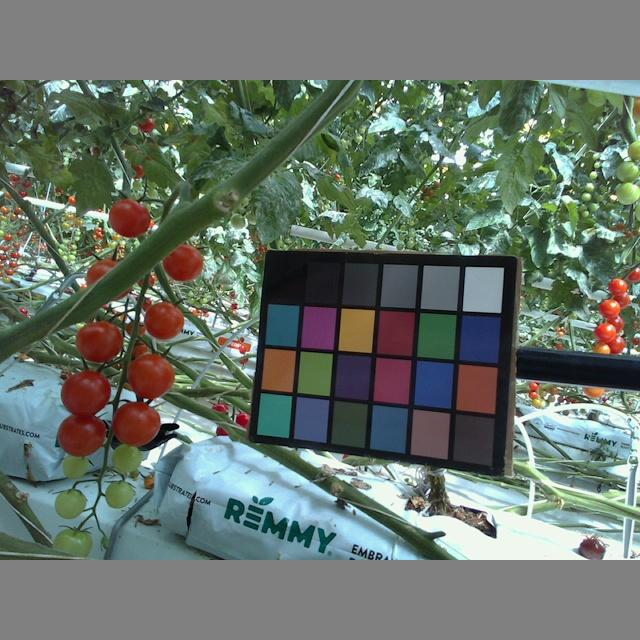green: (50, 529, 94, 560), (55, 488, 87, 521), (109, 440, 140, 473), (104, 478, 135, 511), (61, 449, 90, 481)
pink: (125, 353, 177, 401), (54, 412, 106, 457), (81, 256, 134, 300), (111, 400, 160, 446), (62, 371, 111, 416), (74, 321, 122, 366), (160, 241, 203, 280), (109, 199, 151, 238), (142, 302, 185, 338), (597, 296, 620, 319), (594, 319, 616, 343), (607, 274, 627, 296)
